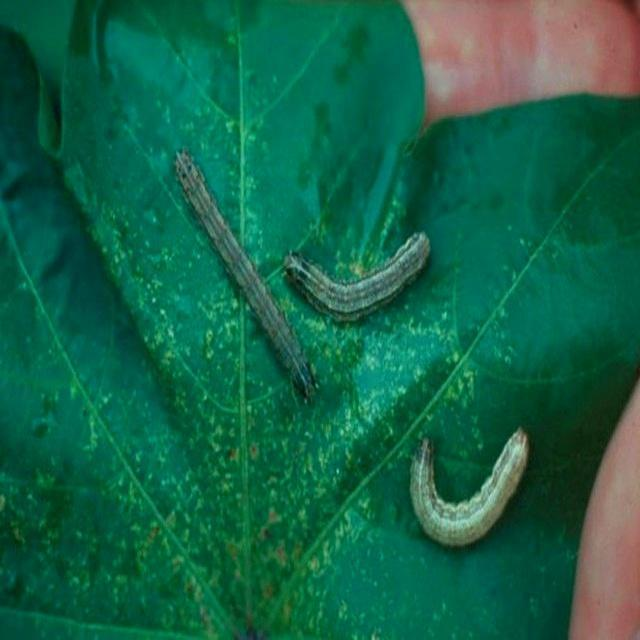Plaga: (178, 166, 320, 393), (414, 431, 526, 549), (294, 230, 431, 313)
